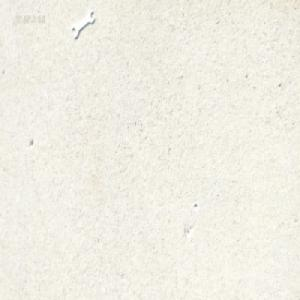Wrench: (71, 14, 94, 43)
